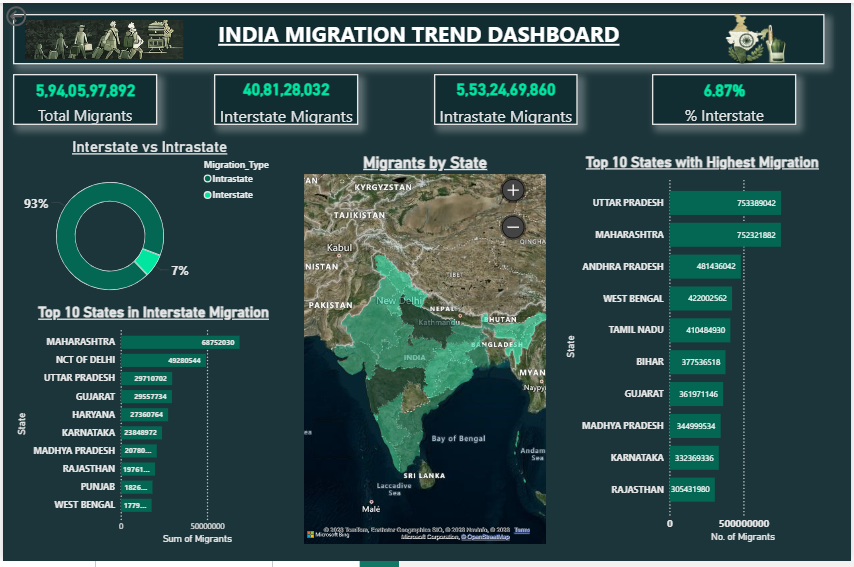

The dashboard page shown, as its layout file describes it:
{"tool":"powerbi","page":{"name":"Migration Overwiew","canvas":[1280,843],"ordinal":0},"visuals":[{"type":"card","fields":{"Values":["Sheet1.Interstate Migrants"]},"box":[319.2,107.5,218.4,77.3],"z":0},{"type":"textbox","box":[15.1,16.8,1226.2,75.6],"z":1000},{"type":"card","fields":{"Values":["Sheet1.Total Migrants"]},"box":[15.1,107.5,218.4,77.3],"z":2000},{"type":"card","fields":{"Values":["Sheet1.Intrastate Migrants"]},"box":[651.8,107.5,216.7,77.3],"z":3000},{"type":"card","fields":{"Values":["Sheet1.% Interstate"]},"box":[981,107.5,218.4,77.3],"z":4000},{"type":"donutChart","title":"Interstate vs Intrastate","fields":{"Category":["Sheet1.Migration_Type"],"Y":["Sum(Sheet1.Migrants)"]},"box":[14.9,204.1,413.2,270.5],"z":5000},{"type":"filledMap","title":"Migrants by State","fields":{"Category":["Sheet1.State"]},"box":[455.2,226.8,366.2,591.3],"z":6000},{"type":"actionButton","box":[0,0,100,40],"z":7000},{"type":"clusteredBarChart","title":"Top 10 States with Highest Migration","fields":{"Category":["Sheet1.State"],"Y":["Sum(Sheet1.Migrants)"]},"box":[849.6,227.3,414.9,590.8],"z":8000},{"type":"clusteredBarChart","title":"Top 10 States in Interstate Migration","fields":{"Category":["Sheet1.State"],"Y":["Sum(Sheet1.Migrants)"]},"box":[14.9,454.7,424.8,363.4],"z":9000},{"type":"image","box":[33.6,25.2,238.5,58.8],"z":10000},{"type":"image","box":[1046.5,16.8,181.4,75.6],"z":11000}]}

Visuals, with their boxes in screenshot pixels (x1, y1, x2, y2), scaled from the page's 1280x843 canvas onto the 854x567 screenshot:
card - Sheet1.Interstate Migrants: (x1=213, y1=72, x2=359, y2=124)
textbox: (x1=10, y1=11, x2=828, y2=62)
card - Sheet1.Total Migrants: (x1=10, y1=72, x2=156, y2=124)
card - Sheet1.Intrastate Migrants: (x1=435, y1=72, x2=579, y2=124)
card - Sheet1.% Interstate: (x1=655, y1=72, x2=800, y2=124)
"Interstate vs Intrastate" donutChart: (x1=10, y1=137, x2=286, y2=319)
"Migrants by State" filledMap: (x1=304, y1=153, x2=548, y2=550)
actionButton: (x1=0, y1=0, x2=67, y2=27)
"Top 10 States with Highest Migration" clusteredBarChart: (x1=567, y1=153, x2=844, y2=550)
"Top 10 States in Interstate Migration" clusteredBarChart: (x1=10, y1=306, x2=293, y2=550)
image: (x1=22, y1=17, x2=182, y2=56)
image: (x1=698, y1=11, x2=819, y2=62)
